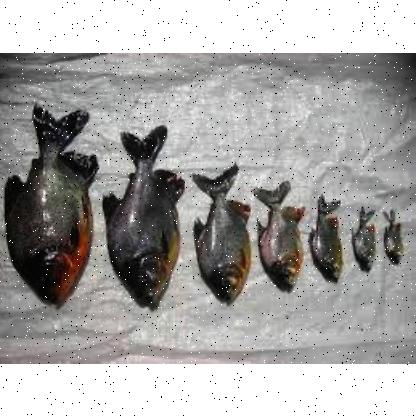ikan-pacu: (1, 109, 97, 309), (103, 125, 185, 309), (192, 162, 250, 306), (254, 182, 302, 292), (308, 194, 346, 284), (348, 206, 378, 274), (382, 209, 404, 265)
